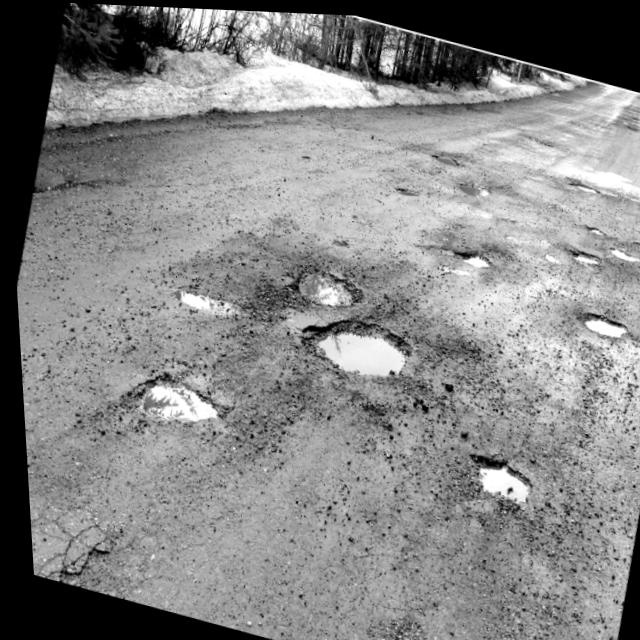pathole: (90, 67, 640, 609)
